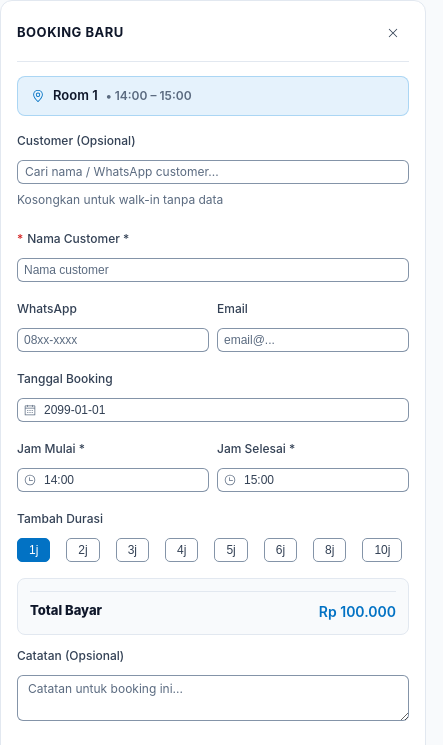
Scenario: NewBookingPanel › duration button sets the end time and prices again
The image size is (443, 745).
What coordinates should you click on to do the following:
click the button "3j"
I would click on:
 (132, 550)
Its box is [116,538,149,562].
Wait 600 ms
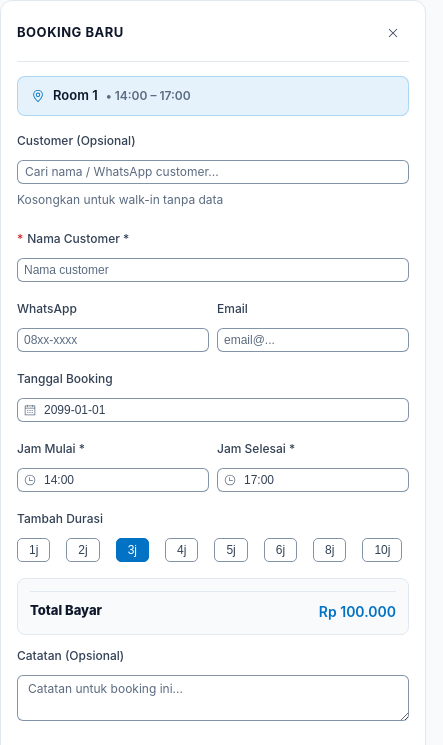
Check: the element with class "room-chip" shows "14:00 – 17:00", box [106,88,191,103]
